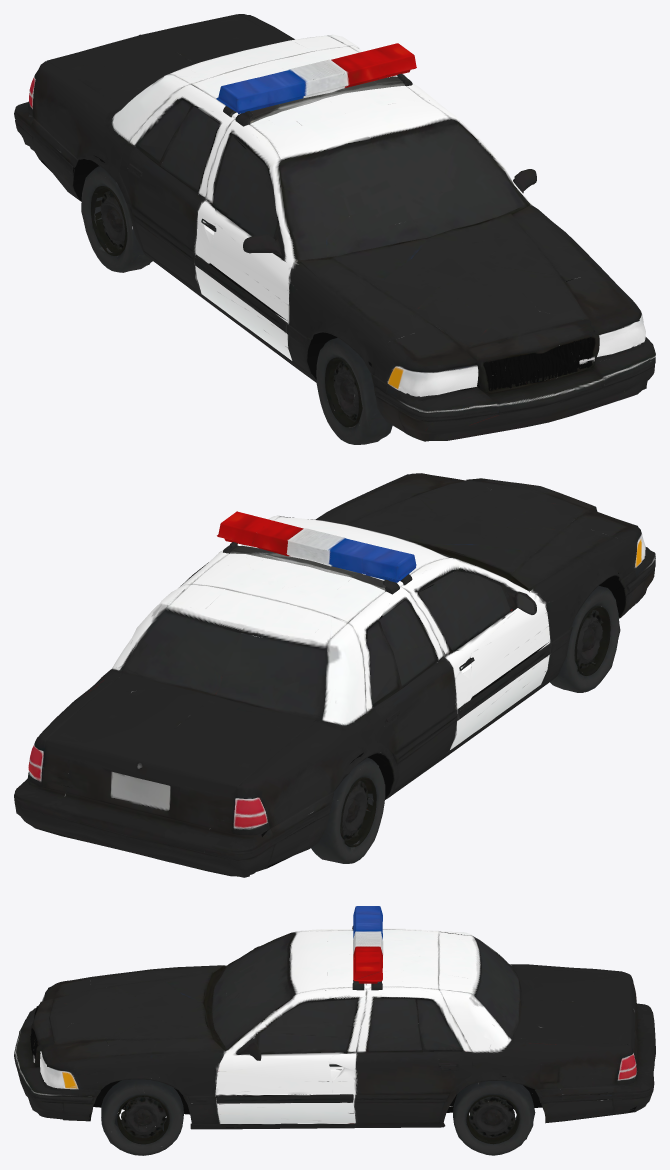
File: police-v6.glb
3 renders of one model, top to bottom at view 1: azimuth 30°, elevation 25°; view 2: azimuth 150°, elevation 25°; view 3: azimuth 270°, elevation 25°, orthographic. The views are drawn at different scales.
Parts seen in each view (by area): view 1: body, wheel_fl_mesh, wheel_rl_mesh; view 2: body, wheel_rl_mesh, wheel_fl_mesh; view 3: body, wheel_fr_mesh, wheel_rr_mesh.
Boxes of the visible parts, box(x1,y1,x2,y2) form: body: box(14, 14, 655, 441); wheel_fl_mesh: box(316, 338, 392, 444); wheel_rl_mesh: box(81, 166, 152, 272); body: box(14, 473, 655, 877); wheel_rl_mesh: box(311, 757, 385, 863); wheel_fl_mesh: box(550, 586, 620, 692); body: box(14, 906, 655, 1129); wheel_fr_mesh: box(101, 1079, 183, 1155); wheel_rr_mesh: box(453, 1081, 535, 1155).
Size of the model in its own units: 0.3744 by 0.2837 by 0.9531.
1 material, 1 textured.
